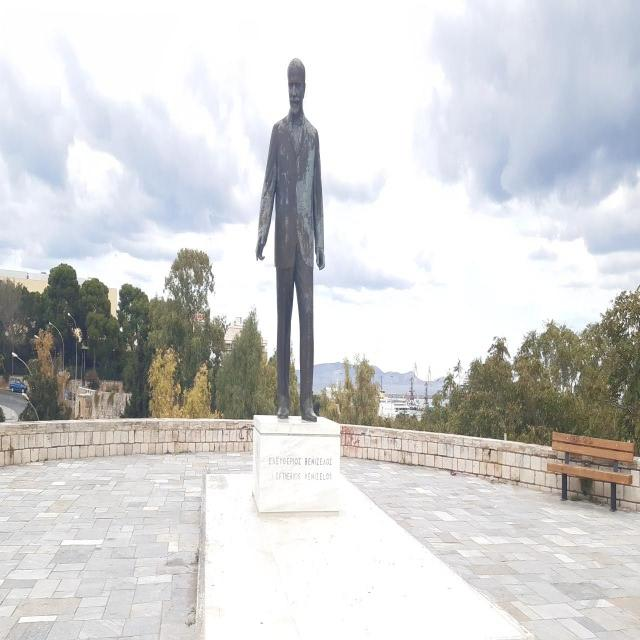Venizelos: (258, 60, 327, 422)
